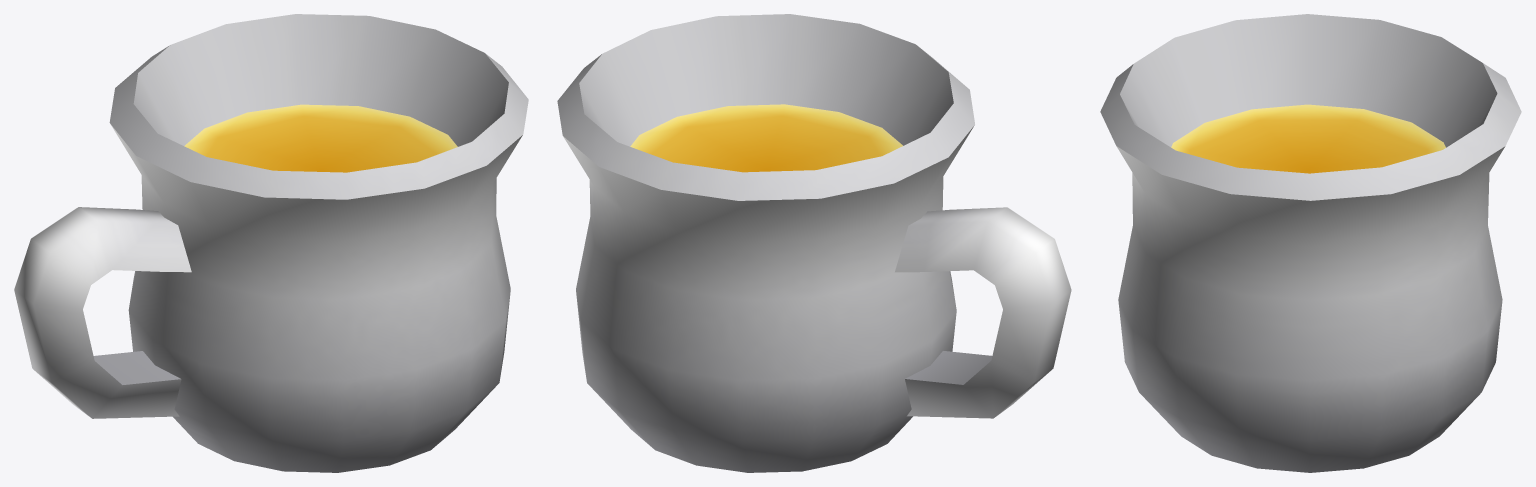
The model's file is m_FancyTea06.fbx.
3 renders of one model, left to right at view 1: azimuth 30°, elevation 25°; view 2: azimuth 150°, elevation 25°; view 3: azimuth 270°, elevation 25°, orthographic.
Parts seen in each view (by area): view 1: m_FancyTea06; view 2: m_FancyTea06; view 3: m_FancyTea06.
Boxes of the visible parts, left/top/right/bottom form: m_FancyTea06: left=14, top=14, right=528, bottom=472; m_FancyTea06: left=557, top=14, right=1071, bottom=472; m_FancyTea06: left=1100, top=14, right=1521, bottom=472.
Bounding box in the file's own units: 12.19 × 7.81 × 9.32.
